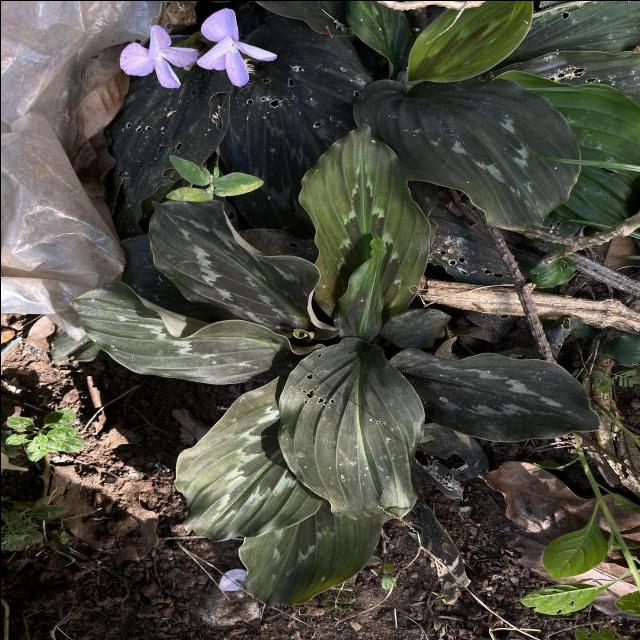Kaempferia galanga linn: (349, 73, 582, 234), (274, 334, 426, 526), (144, 194, 341, 342), (294, 120, 432, 328), (66, 279, 326, 386), (170, 366, 324, 542), (387, 343, 602, 444), (331, 228, 388, 342)
